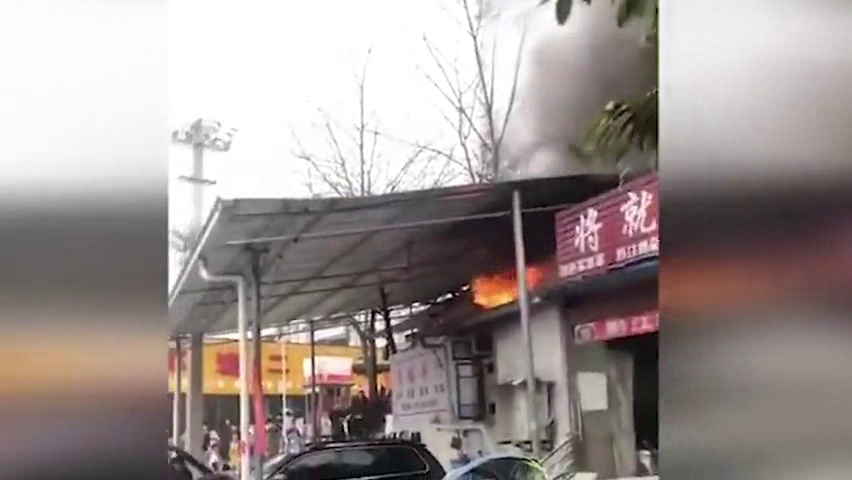fire: (470, 264, 544, 311)
